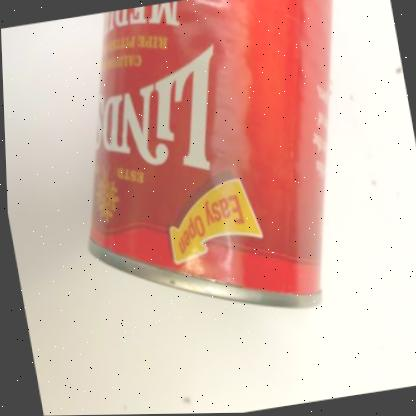Metal: (86, 0, 331, 308)
